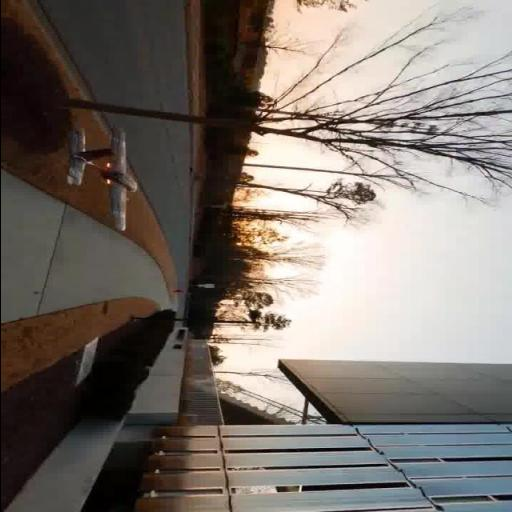uav: (52, 120, 150, 232)
